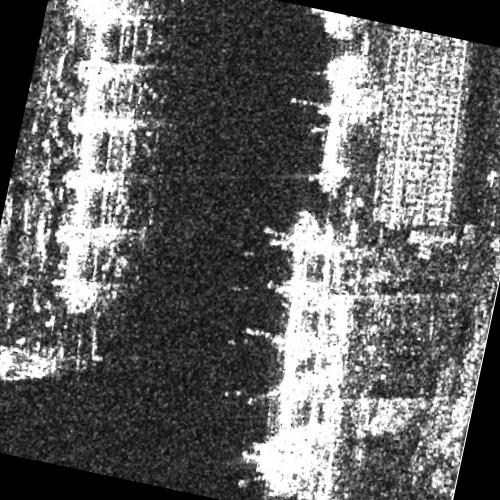ship: (317, 49, 354, 195)
